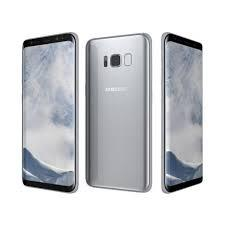Smartphone: (82, 27, 152, 193), (19, 34, 80, 200), (157, 27, 210, 199)
